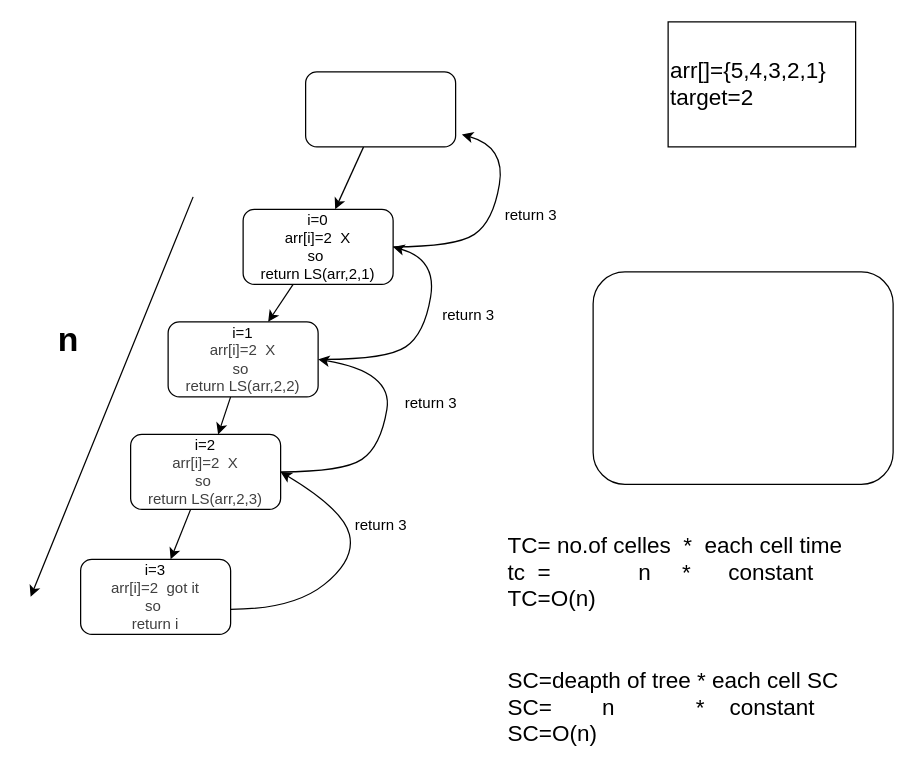
Some shapes in this 915 by 781 pixel diagram are drawn without their labels. Here are the shapes that lost their labels. From the top down, the centre of each, then its label:
[380,109]: main LS(arr,2,0)
[742,377]: tree diagram of linear Search using recursion
